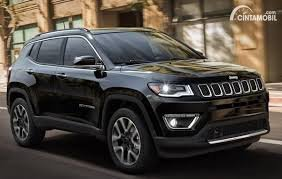mobil: (2, 25, 271, 156)
